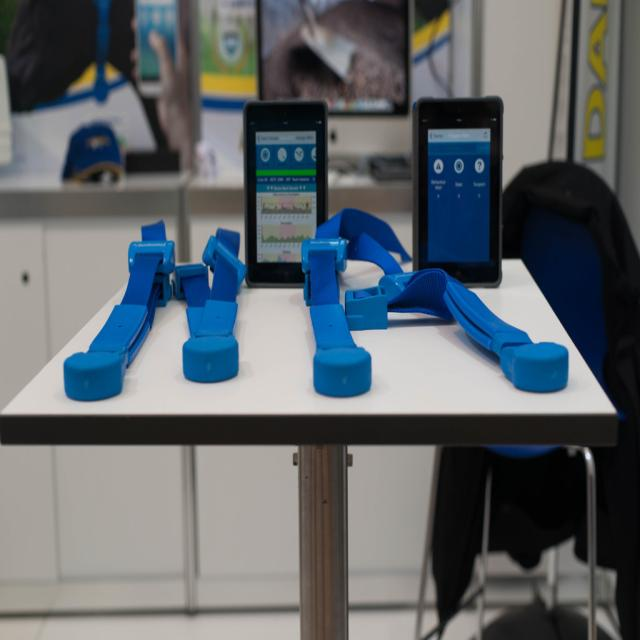Mobile-phone: (394, 98, 518, 293)
